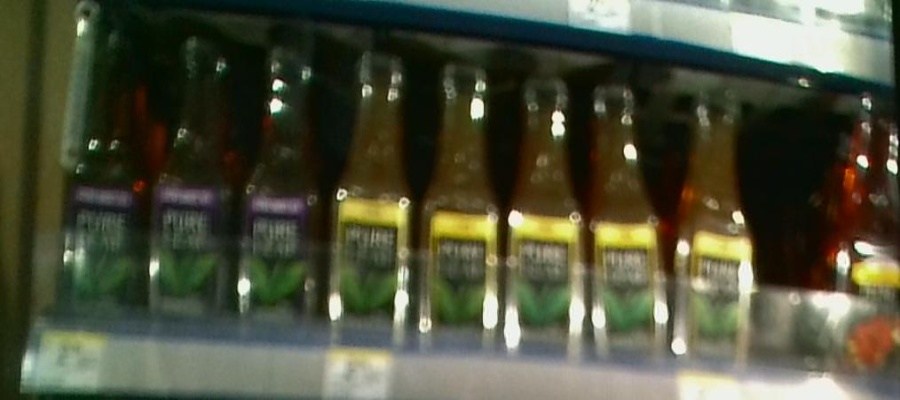bottle: (238, 25, 327, 333), (58, 7, 146, 312), (330, 22, 413, 345), (419, 50, 504, 352), (149, 19, 231, 325), (671, 76, 754, 368), (507, 64, 588, 355), (591, 75, 669, 362), (831, 95, 900, 384)
